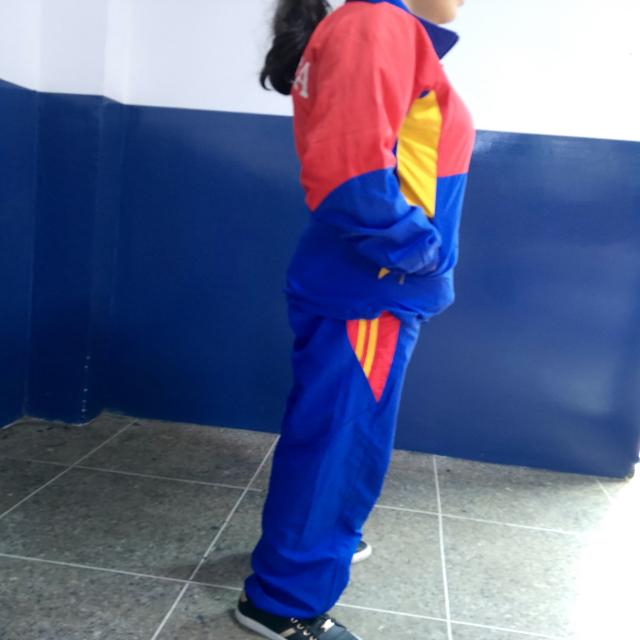chaqueta_unefa: (283, 0, 474, 320)
uniforme_superior: (242, 308, 424, 620)
